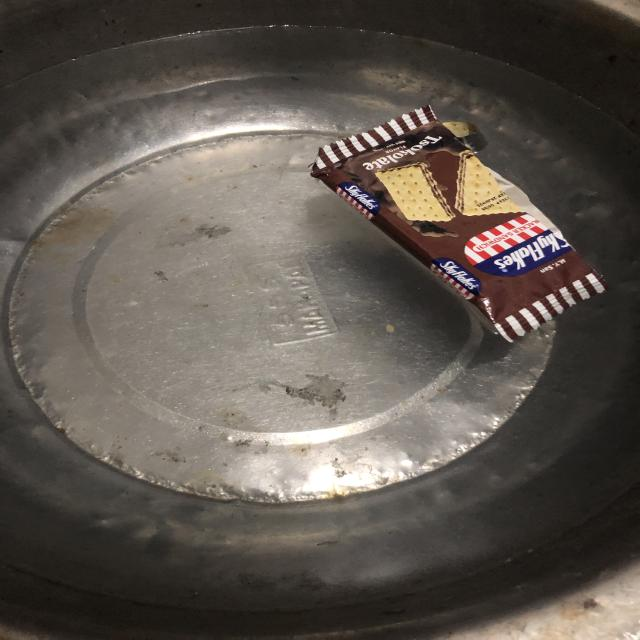Plastic Wrapper: (312, 104, 604, 358)
